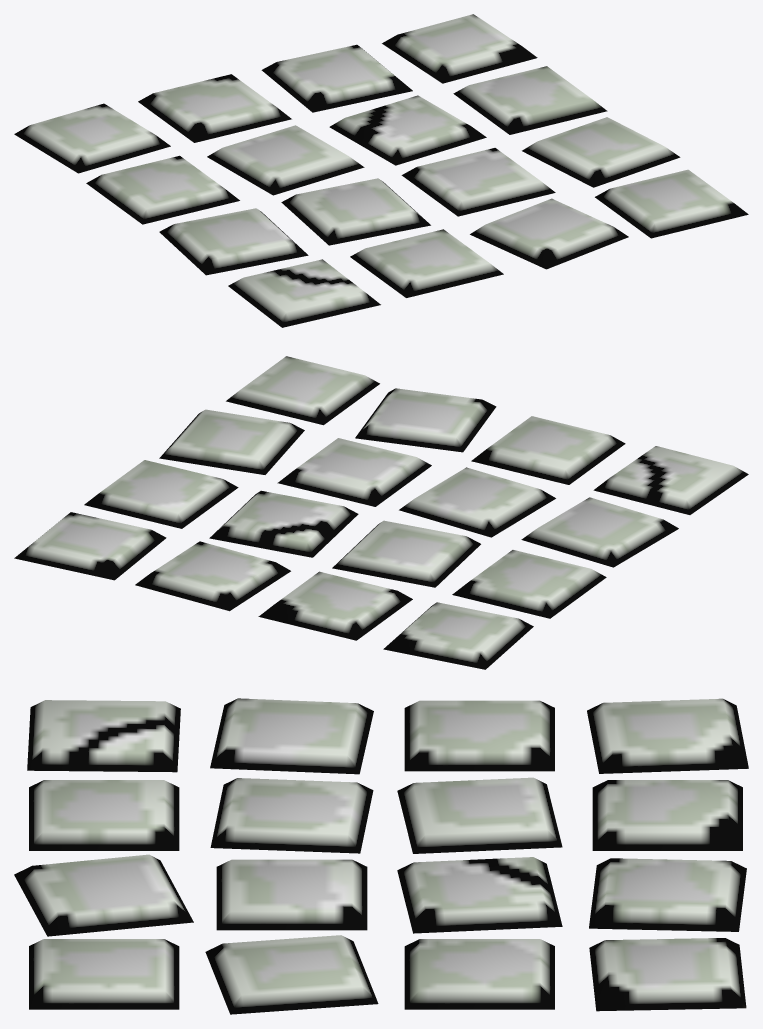
The model's file is deco_floorTilesSmallScattered.FBX.
3 views of the same model, one above another, from view 1: azimuth 30°, elevation 25°; view 2: azimuth 150°, elevation 25°; view 3: azimuth 270°, elevation 25° (orthographic). The views are drawn at different scales.
Visible parts, largest first — view 1: deco_floorTilesSmallScattered; view 2: deco_floorTilesSmallScattered; view 3: deco_floorTilesSmallScattered.
Boxes of the visible parts, bbox=[...] form: deco_floorTilesSmallScattered: bbox=[14, 14, 748, 327]; deco_floorTilesSmallScattered: bbox=[14, 356, 748, 669]; deco_floorTilesSmallScattered: bbox=[14, 698, 748, 1014].
Size of the model in its own units: 1.95 by 0.04 by 1.96.
1 material, 1 textured.
